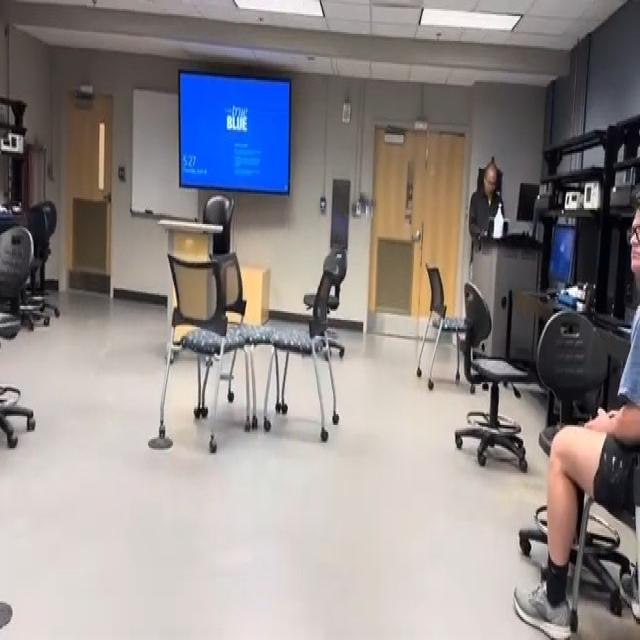drone: (344, 186, 381, 228)
